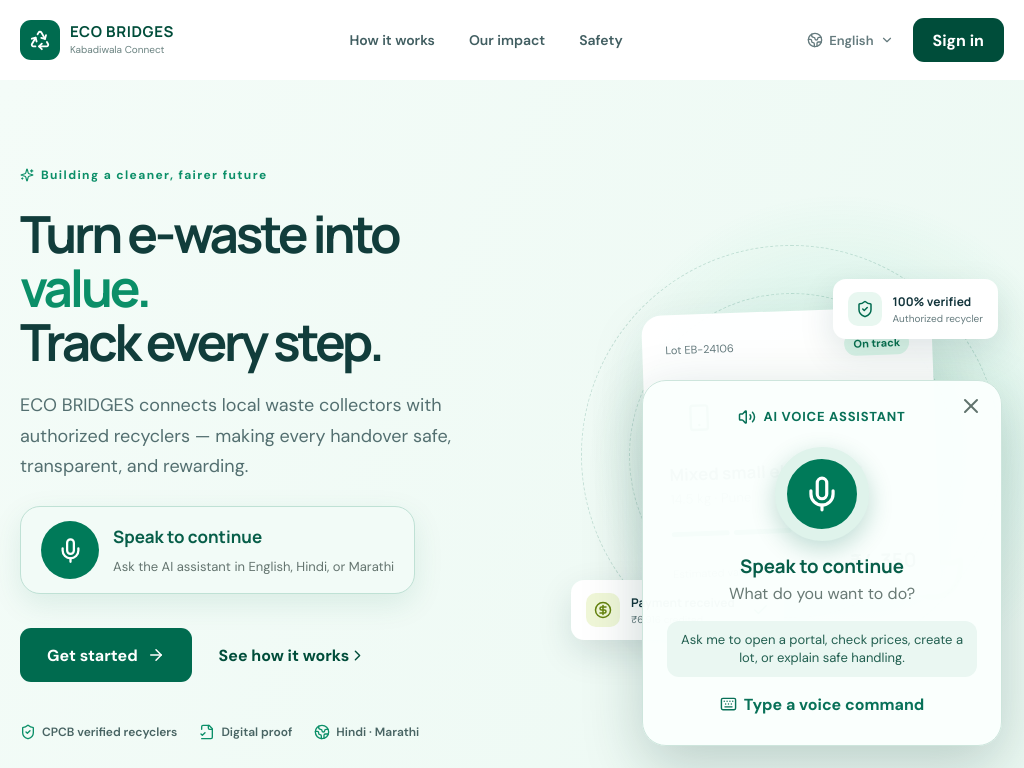
Test: ECO BRIDGES website › opens role selection before sign in
This screenshot has width=1024, height=768.
Click the button "Sign in".
click(958, 40)  # box [912,18,1004,62]
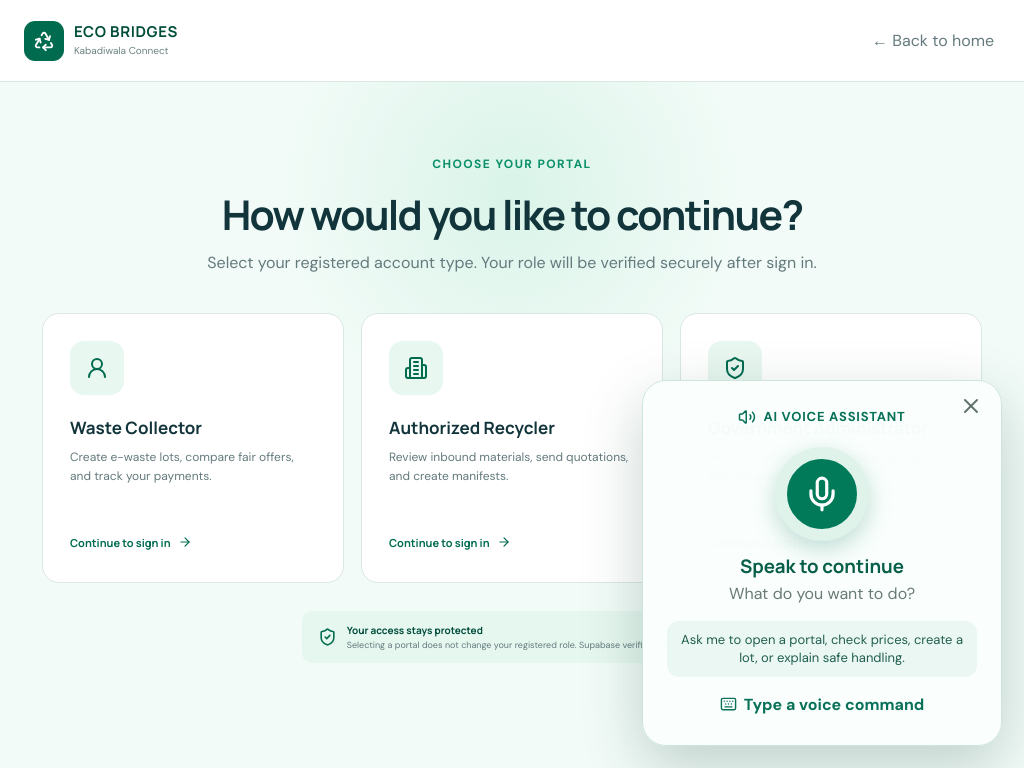
Check: the heading "How would you like to continue?" is shown, box [222,186,802,242]
Check: the button "Waste Collector" is shown, box [42,313,344,583]
